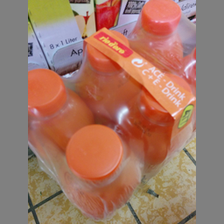juice: (56, 123, 146, 220), (118, 75, 195, 167), (29, 69, 92, 155)
